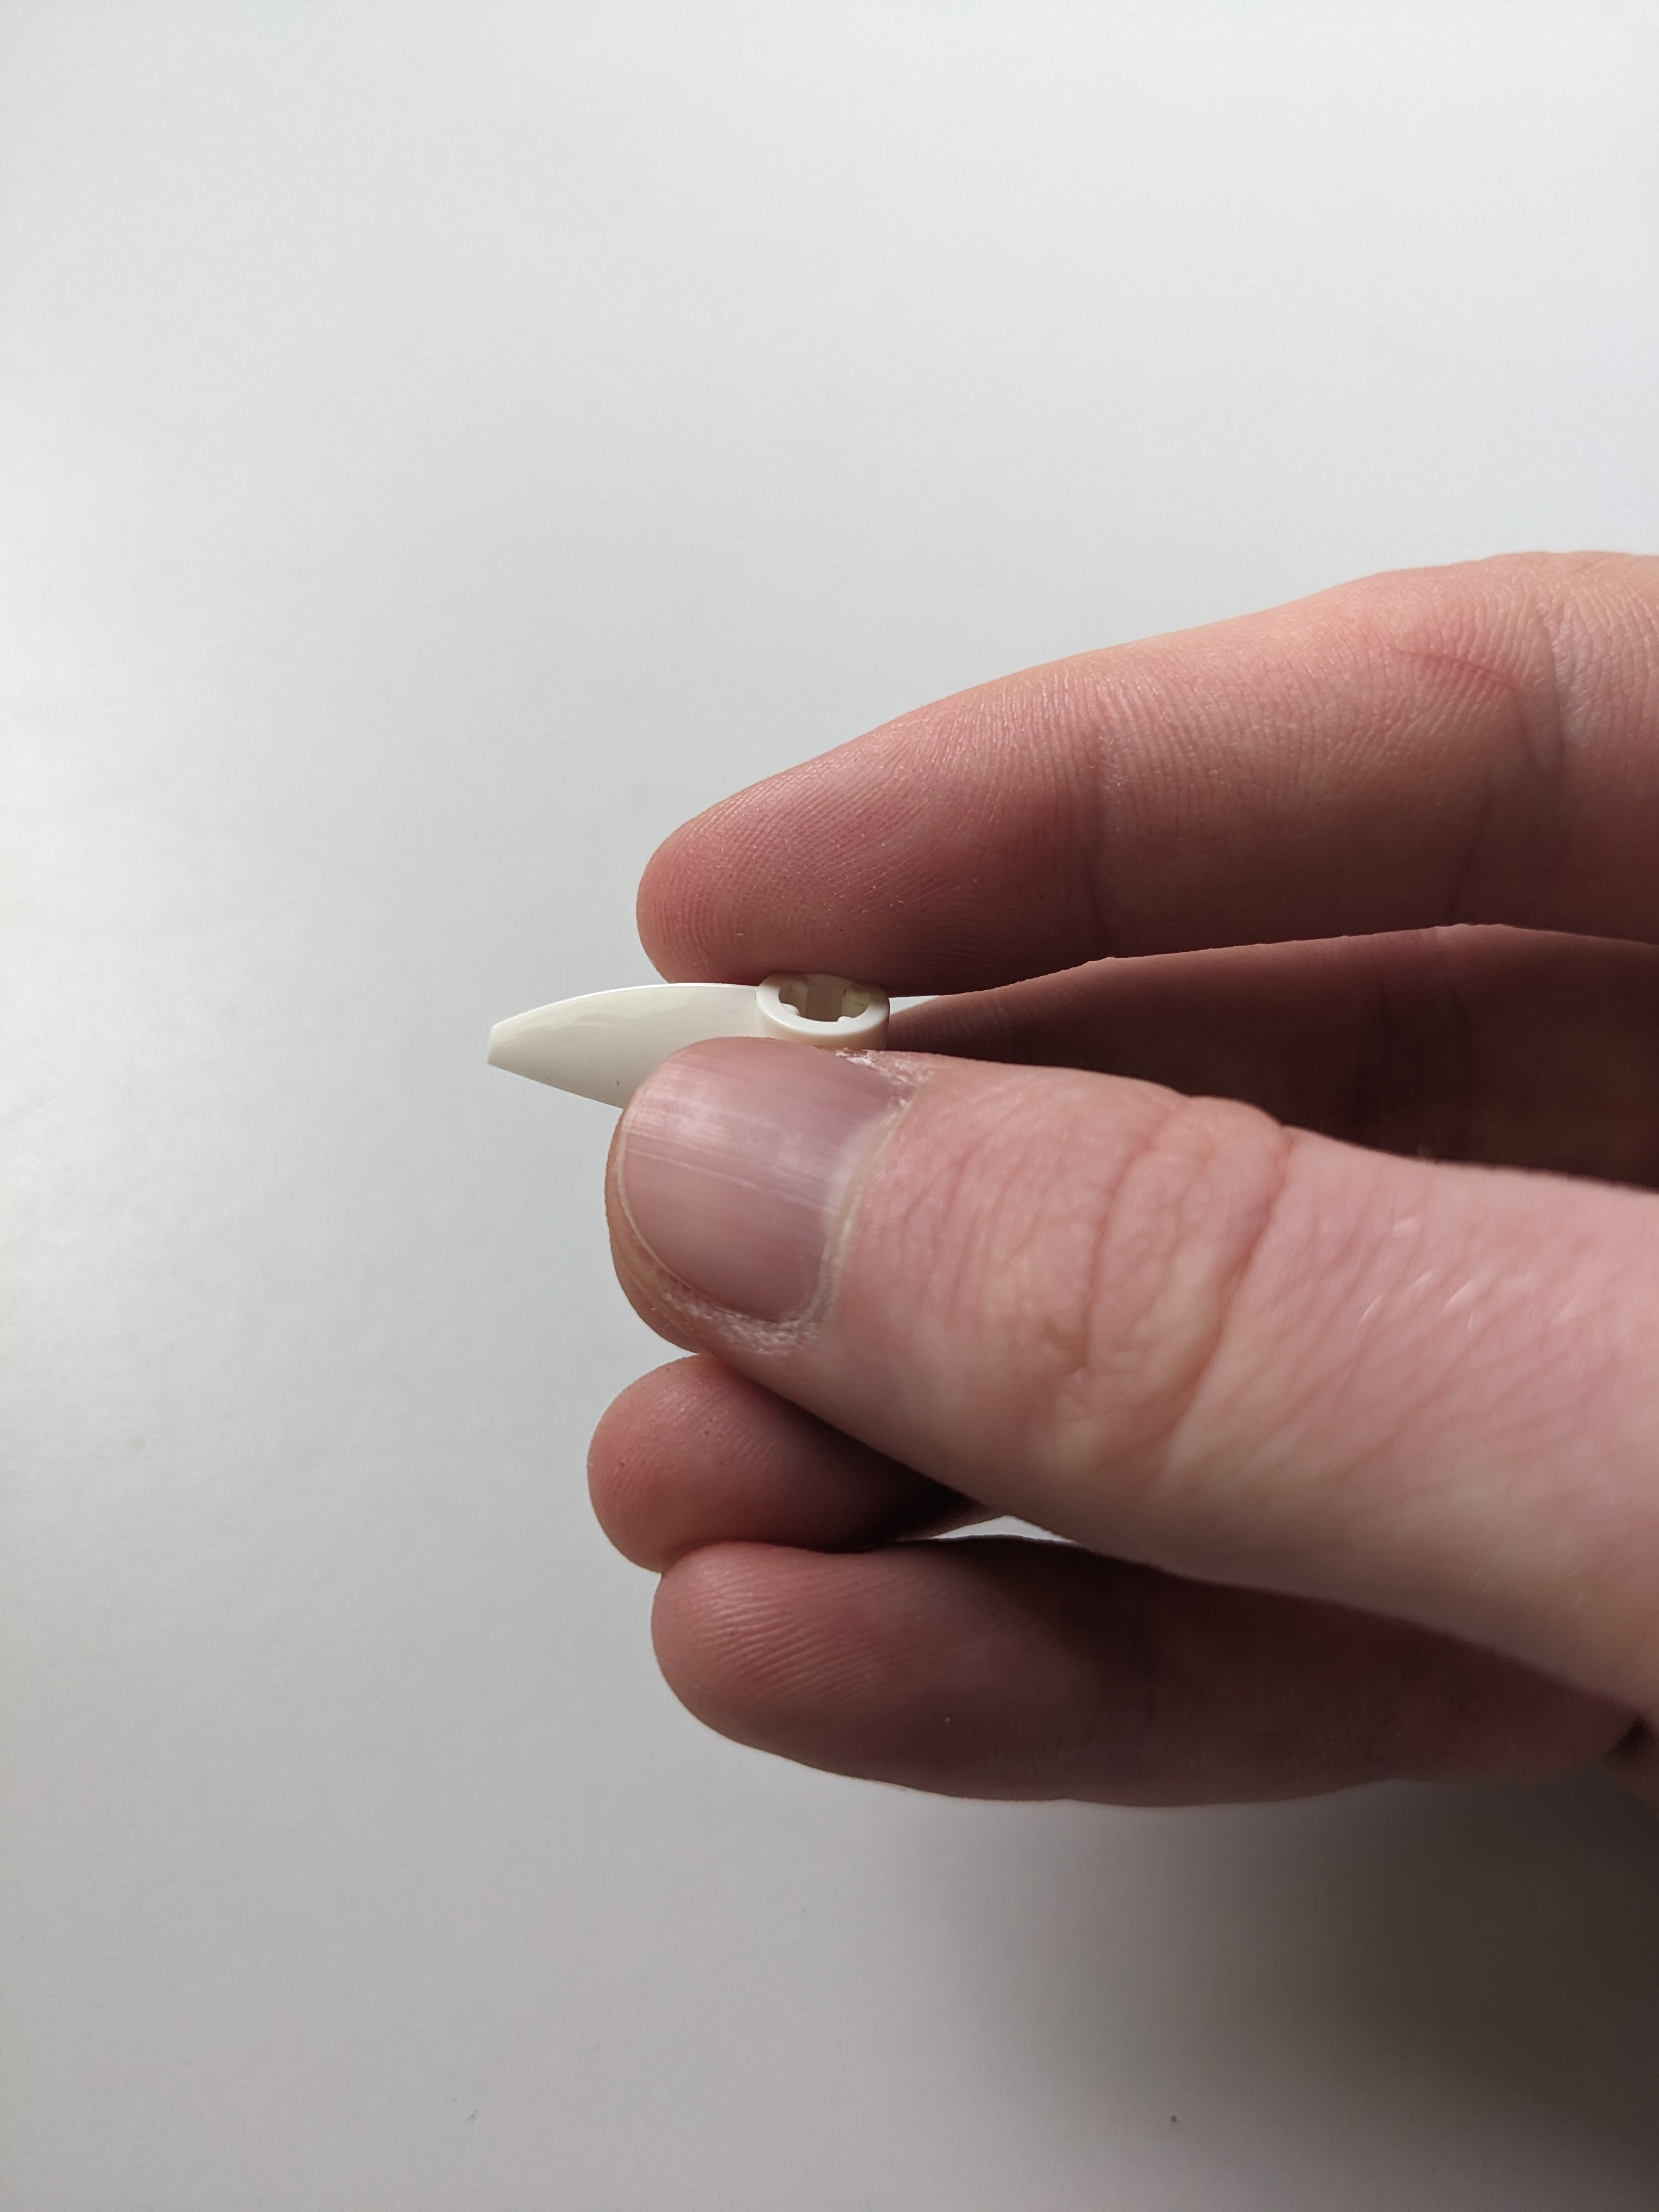Kappe: (465, 958, 917, 1130)
